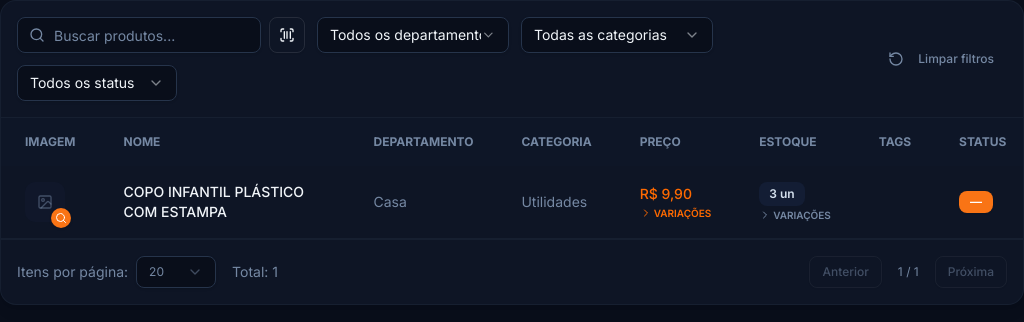
Test case: ProductTable — Corrigir estoque no menu da linha › não oferece mais o item Estoque — a entrada é pela aba Estoque do detalhe (23/09/2026)
Right-click the link "COPO INFANTIL PLÁSTICO COM ESTAMPA": (214, 192) [124, 183, 304, 220]
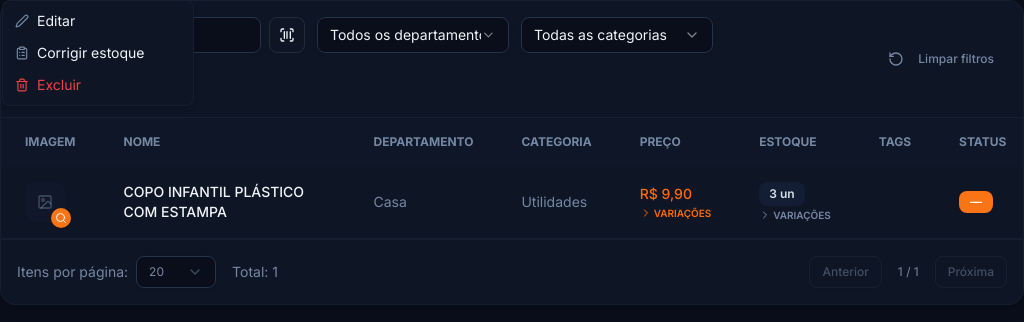
Check: the menu item does not show "Estoque"
Check: the menu item "Corrigir estoque" is shown, box [15, 44, 144, 61]
